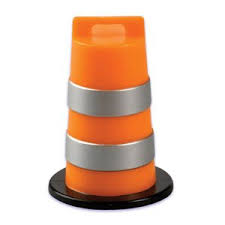barrel: (66, 15, 153, 184)
